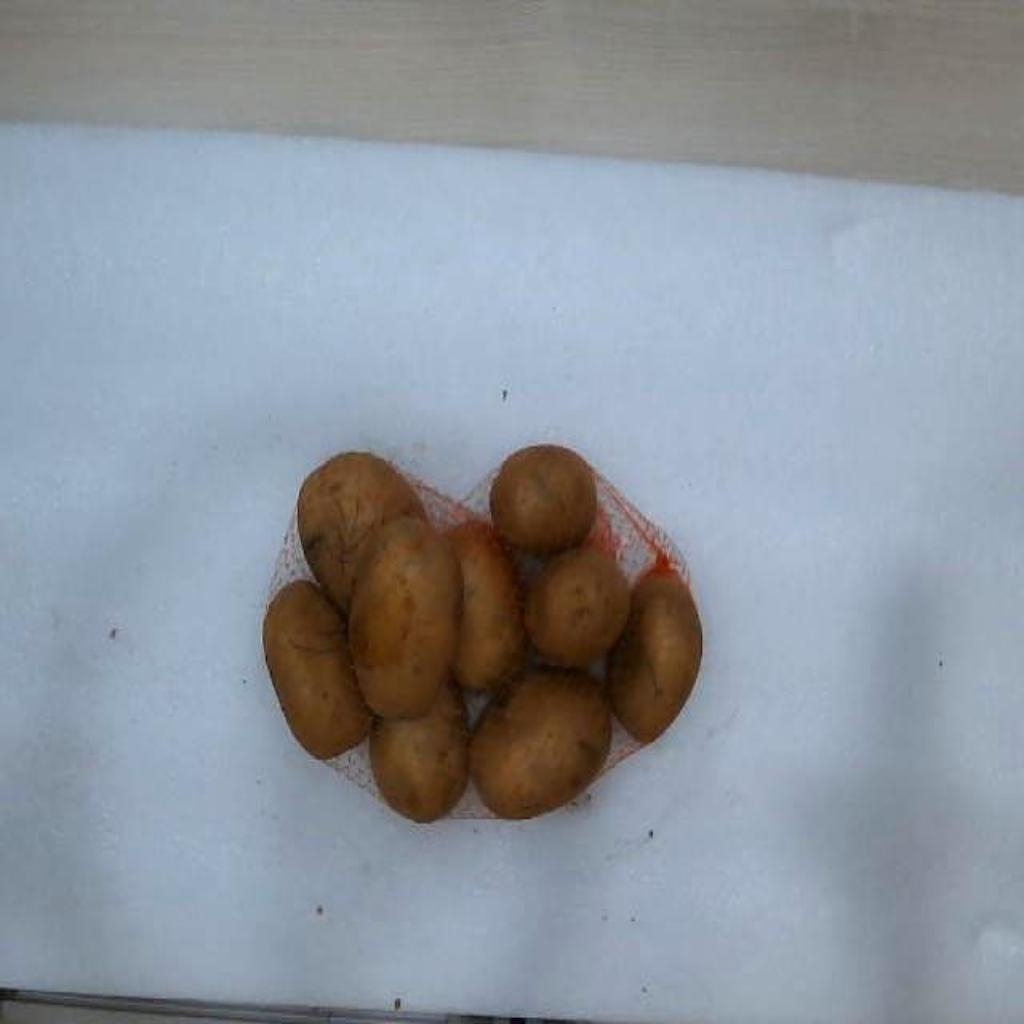potato: (348, 517, 460, 719), (468, 669, 612, 819), (298, 453, 426, 612), (264, 579, 372, 759), (606, 573, 702, 743), (448, 520, 526, 689), (524, 547, 630, 665), (490, 445, 598, 553), (370, 715, 466, 821)
